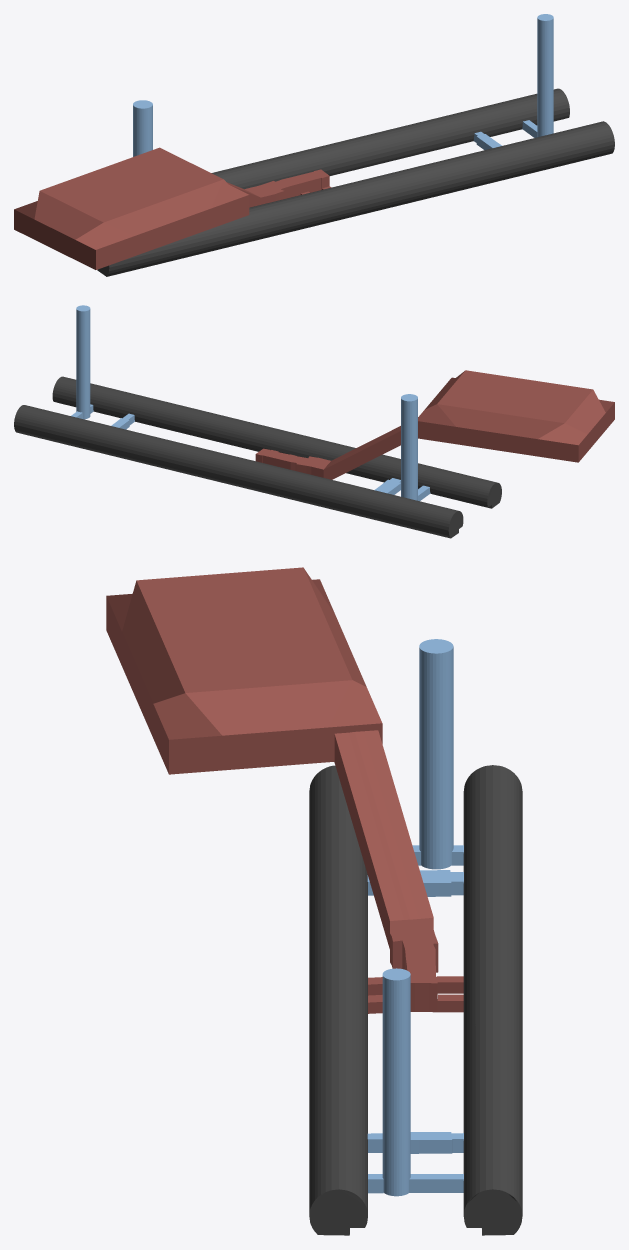
3 views of the same model, one above another, from view 1: azimuth 30°, elevation 25°; view 2: azimuth 150°, elevation 25°; view 3: azimuth 270°, elevation 25° (orthographic). The views are drawn at different scales.
Parts seen in each view (by area): view 1: TicketHall, PLT1, PLT2, 12, Concourse, 25; view 2: PLT2, TicketHall, PLT1, 25, 12, ESC, Concourse; view 3: TicketHall, PLT2, PLT1, ESC, 25, 12, Concourse, 33, 46.
Part boxes in pixels (x1,y1,x2,y2): TicketHall: (14,147,249,269); PLT1: (97,121,614,276); PLT2: (211,88,569,189); 12: (522,14,553,137); Concourse: (244,169,329,204); 25: (133,100,152,156); PLT2: (14,405,463,538); TicketHall: (418,370,614,462); PLT1: (52,376,501,508); 25: (401,394,430,501); 12: (71,305,93,419); ESC: (323,426,400,479); Concourse: (255,448,330,477); TicketHall: (106,567,382,774); PLT2: (463,765,522,1235); PLT1: (309,765,367,1235); ESC: (334,730,433,948); 25: (412,639,463,869); 12: (368,968,463,1196); Concourse: (390,917,438,1012); 33: (367,1132,463,1153); 46: (367,870,463,896).
Bounding box in the file's own units: 186 × 38.67 × 65.05.
